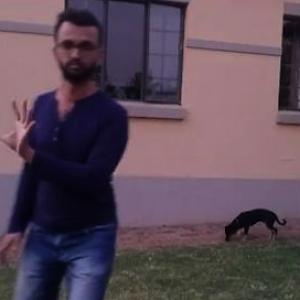follow_hand: (1, 91, 42, 157)
